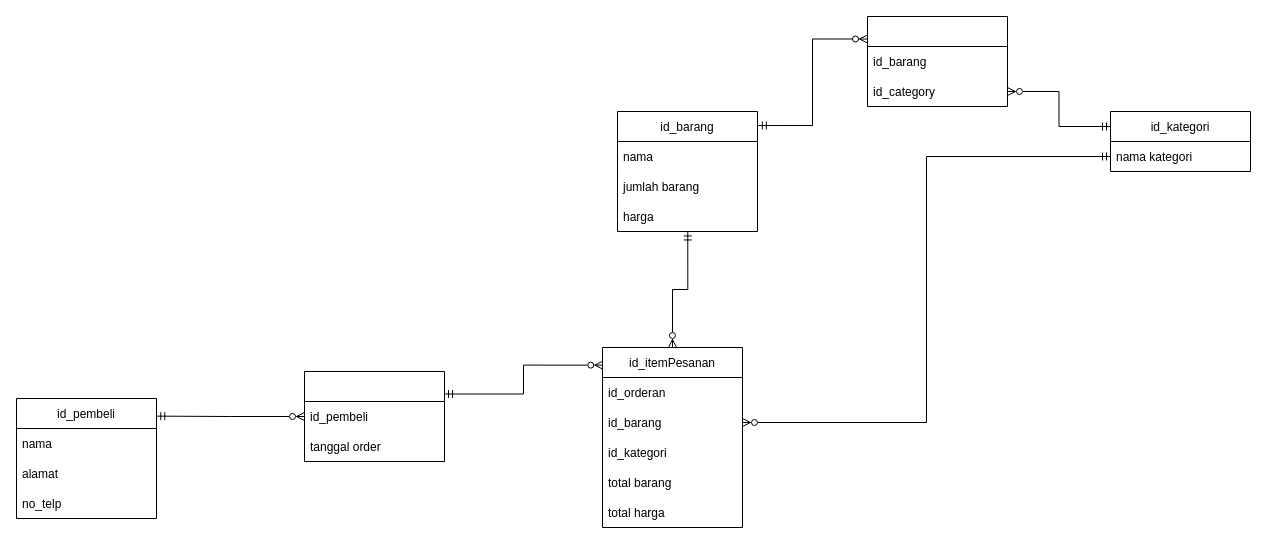
The diagram is 1267 pixels wide and 544 high, and some of its shapes have lost their labels. The box of each missing label's shape, as (x1, y1, x2, y2) in pixels:
id_categoryBarang: (866, 16, 1008, 106)
id_pesan: (304, 370, 444, 462)
